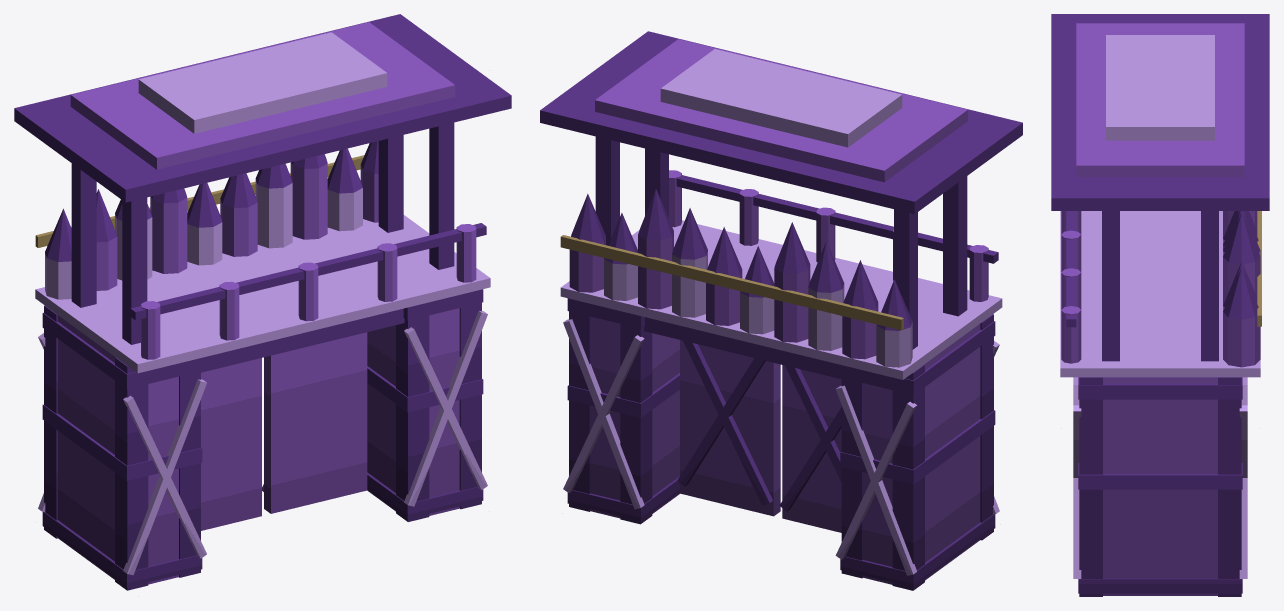
Rendered from perimeter_gate_crystal.glb.
3 renders of one model, left to right at view 1: azimuth 30°, elevation 25°; view 2: azimuth 150°, elevation 25°; view 3: azimuth 270°, elevation 25°, orthographic. The views are drawn at different scales.
Size of the model in its own units: 4.4 by 4.8 by 2.2.
Materials: 1 (1 with a texture image).
